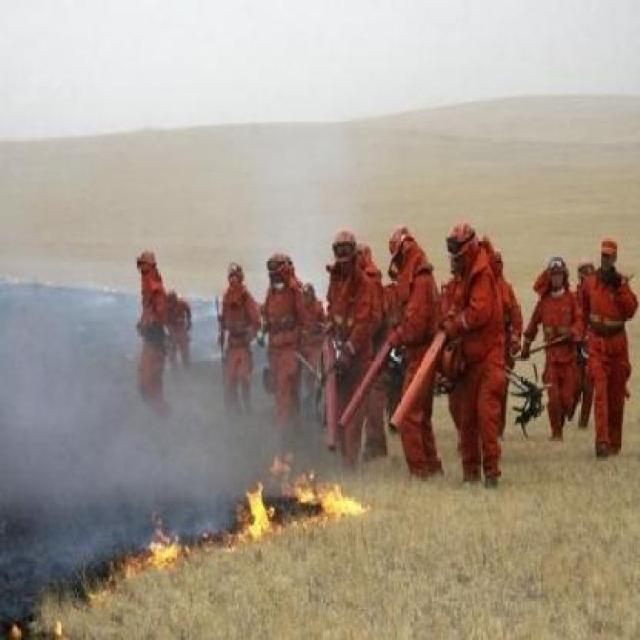Fire: (272, 461, 372, 524), (129, 506, 187, 576), (229, 483, 273, 551), (4, 618, 23, 637), (52, 620, 68, 640)
Smoke: (0, 291, 273, 478)
